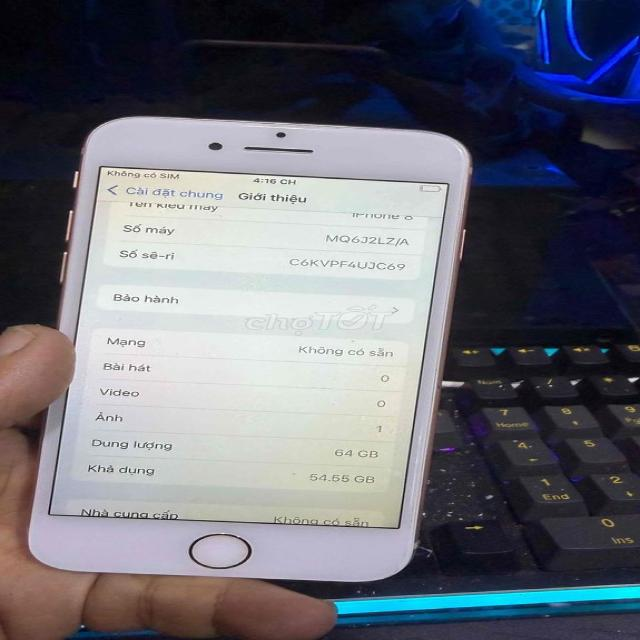gen_7_8: (31, 117, 470, 581)
